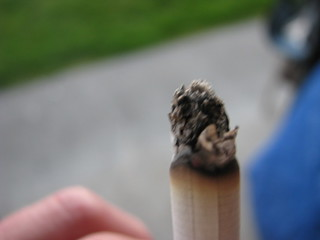cigarette: (162, 76, 245, 240)
